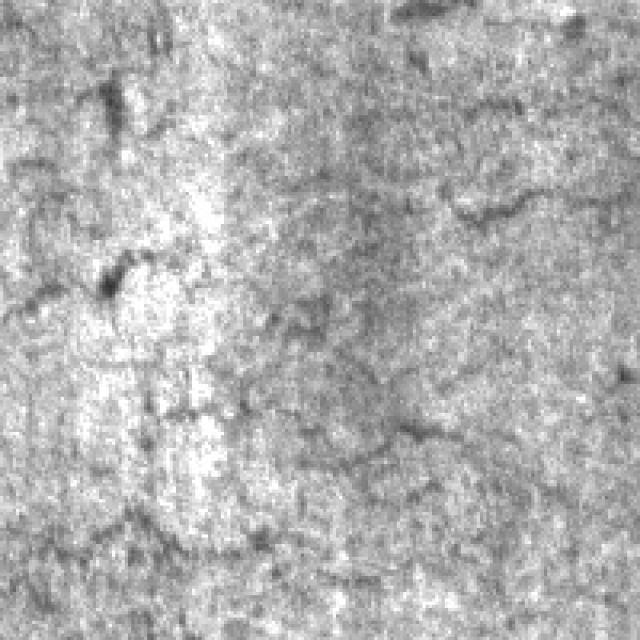crazing: (26, 214, 528, 477), (7, 390, 580, 570), (224, 83, 640, 227), (352, 0, 640, 106)
